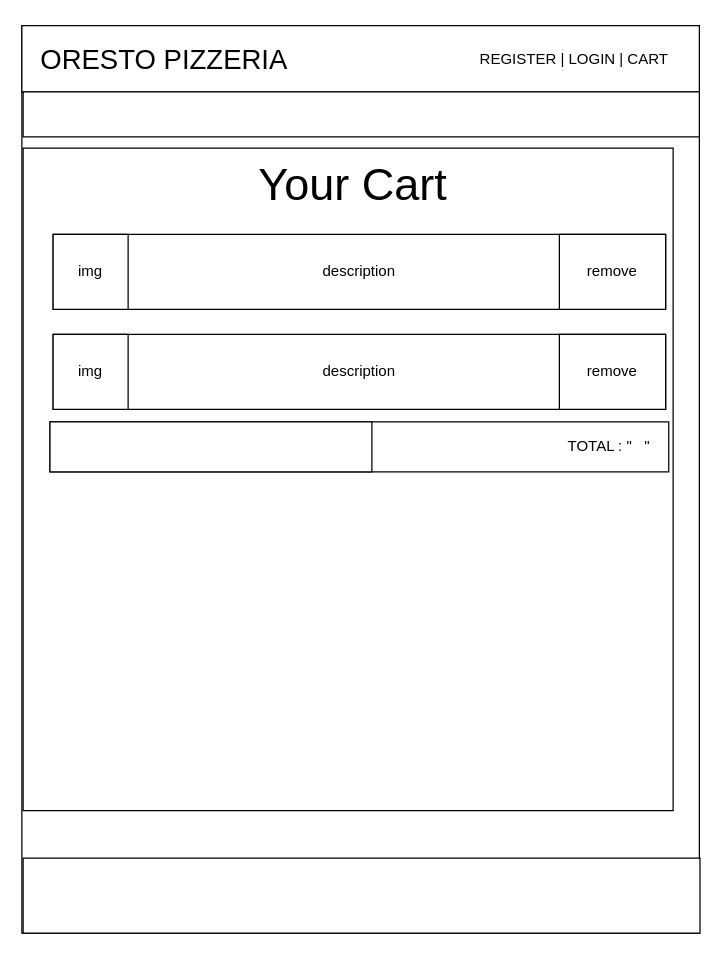
Some shapes in this 723 by 955 pixel diagram are drawn without their labels. Here are the shapes that lost their labels. From the top down, the centre of each, then its label:
the point at 360,114: MENU | DEALS
the point at 210,446: PURCHASE NOW
the point at 361,895: ORESTO PIZZERIA @ ALL RIGHTS RESERVED 2026
